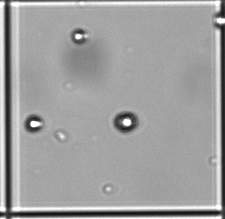Living Cell: (114, 110, 137, 132), (25, 115, 44, 132), (72, 28, 86, 44)
